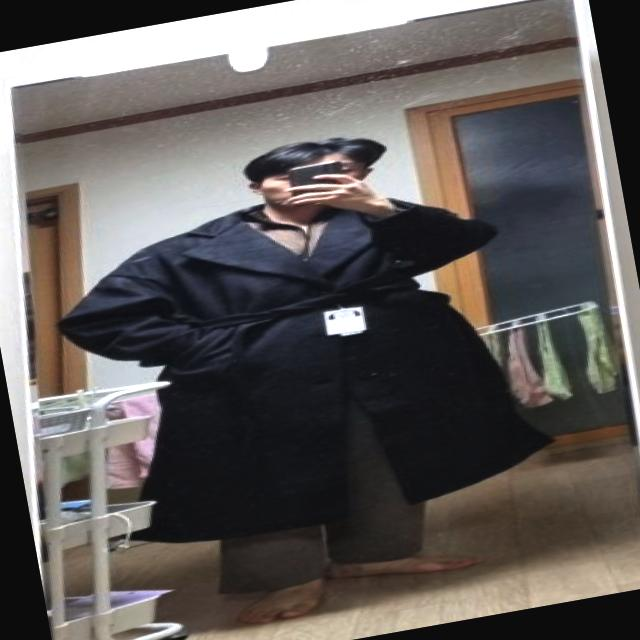coat: (43, 153, 580, 563)
slacks: (181, 356, 443, 602)
